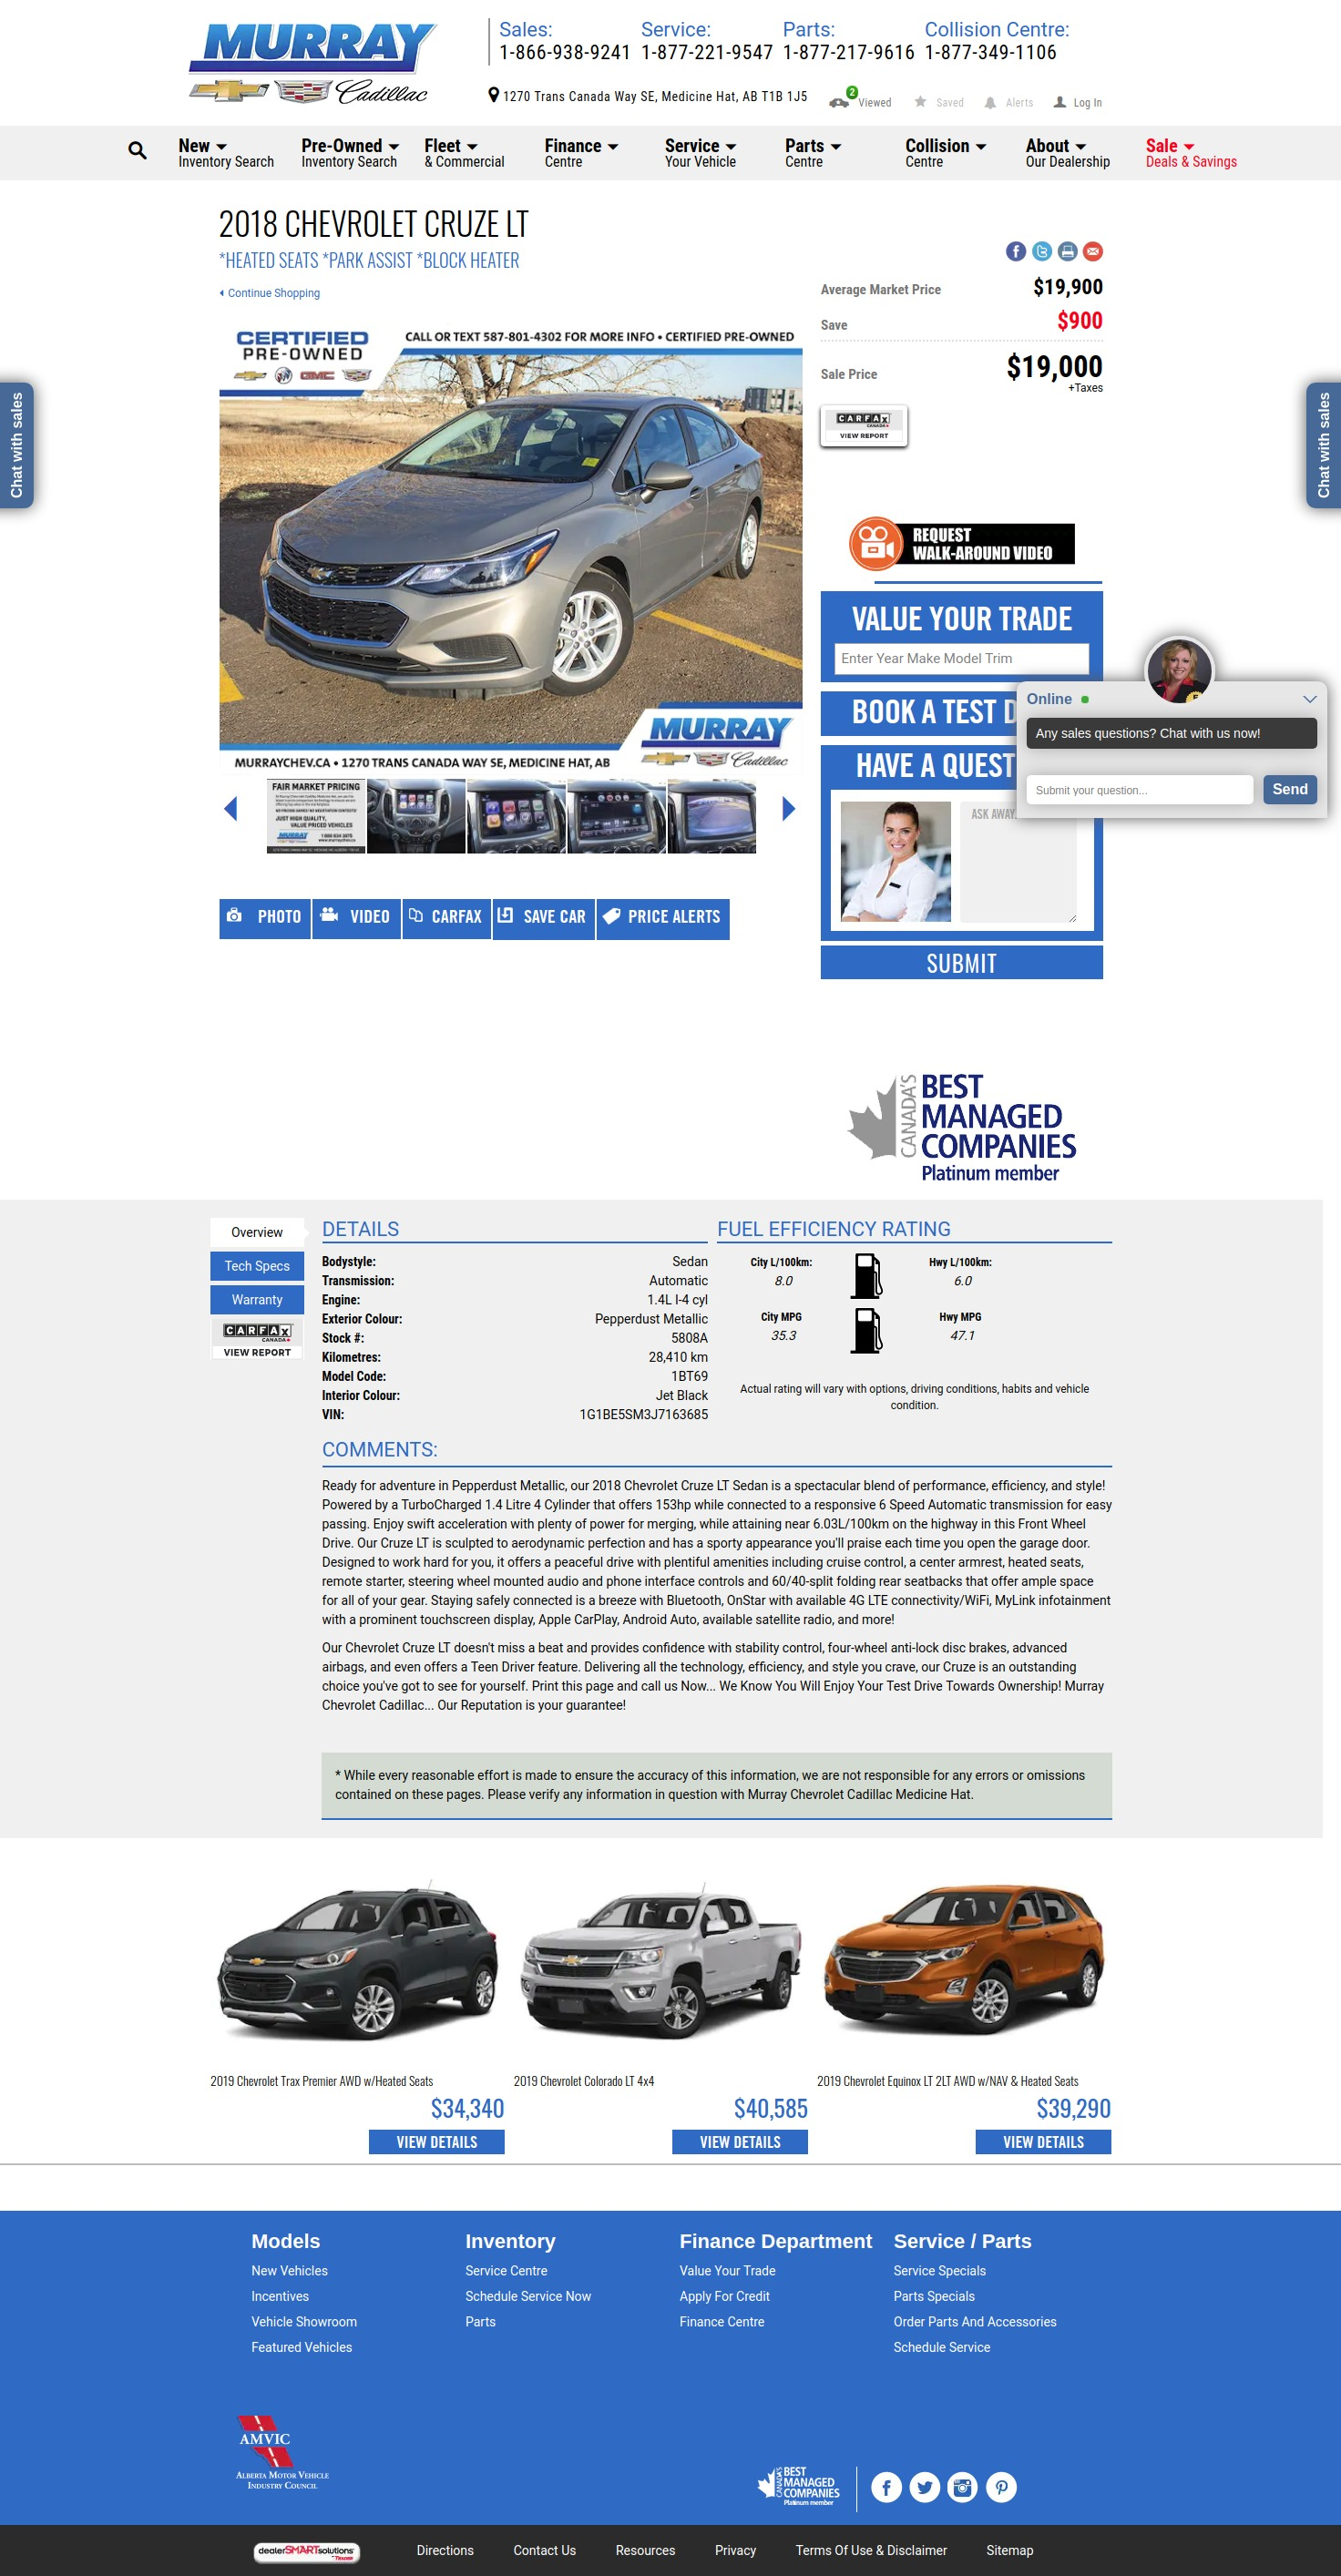car: (782, 796, 799, 825)
